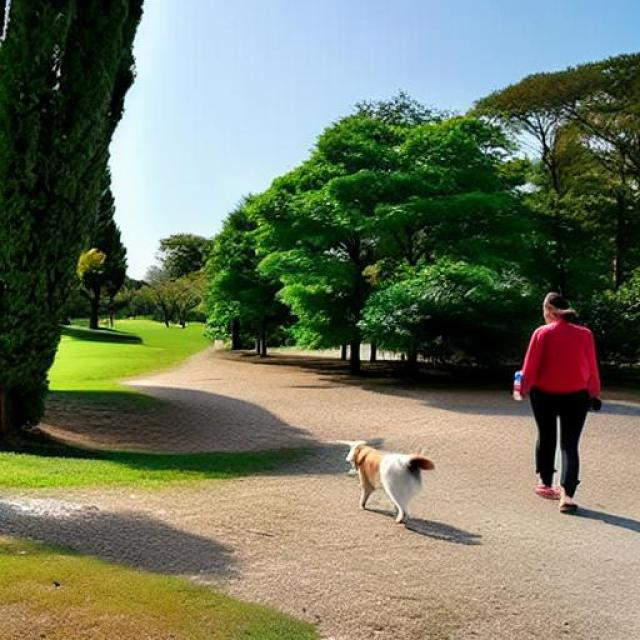Unleashed_Dog: (347, 392, 588, 525)
